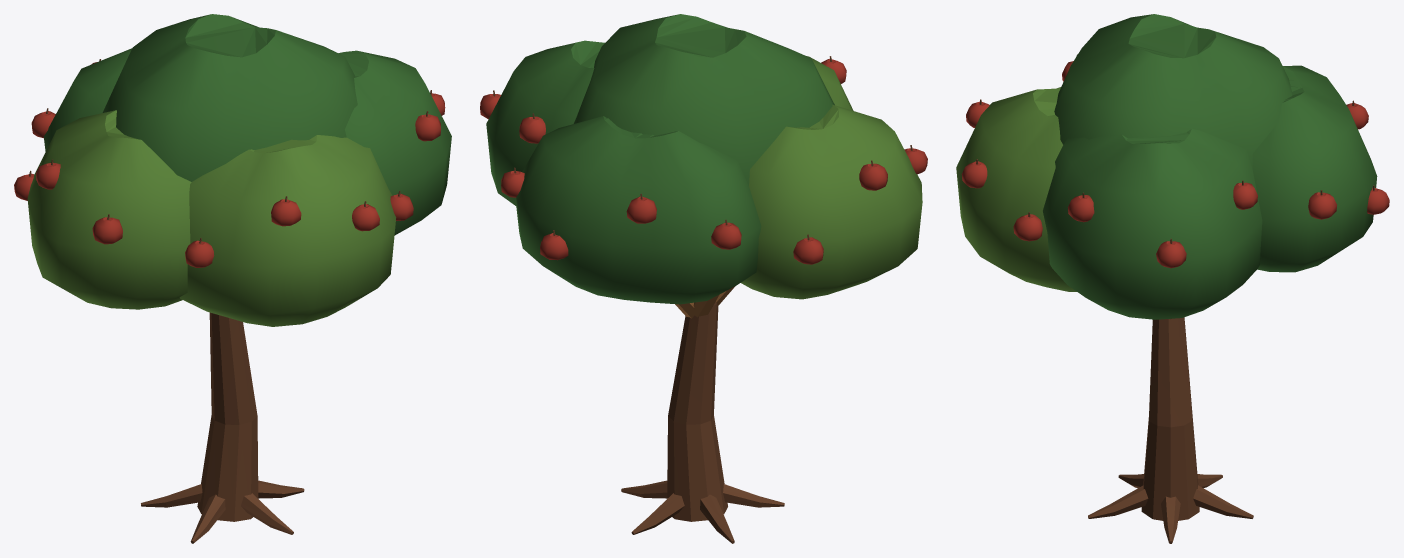
File: Plant_Pastoral_AppleTree_001.glb
The picture shows the model from 3 angles, left to right: view 1: azimuth 30°, elevation 25°; view 2: azimuth 150°, elevation 25°; view 3: azimuth 270°, elevation 25°; orthographic projection.
Visible parts, largest first — view 1: PA_OrchardTree_Body; view 2: PA_OrchardTree_Body; view 3: PA_OrchardTree_Body.
Part boxes in pixels (x1,y1,x2,y2): PA_OrchardTree_Body: (14, 14, 451, 543); PA_OrchardTree_Body: (480, 14, 927, 543); PA_OrchardTree_Body: (956, 14, 1389, 543).
Size of the model in its own units: 3.73 by 4.12 by 3.41.
